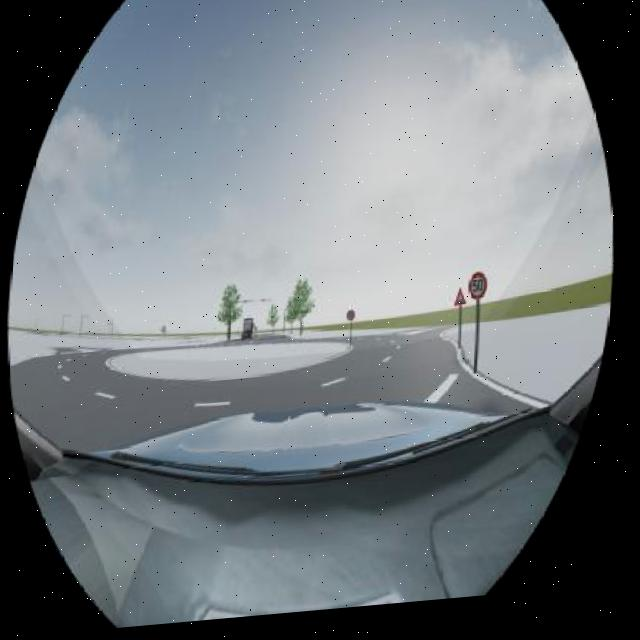Speed limit 50: (467, 277, 492, 311)
